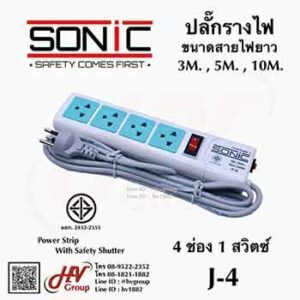Three_eye_plug: (46, 89, 263, 214)
